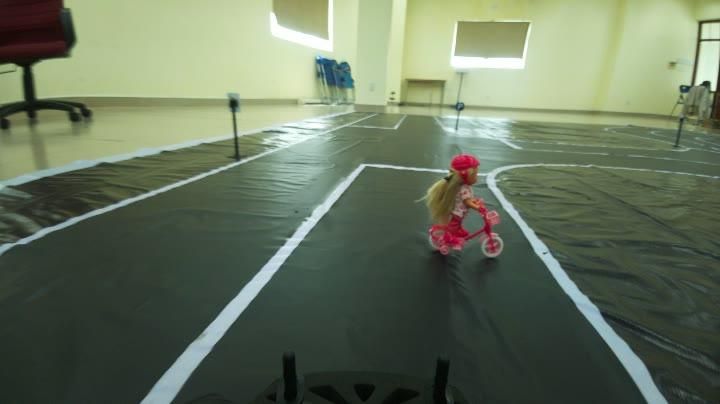pedestrian: (421, 152, 505, 262)
